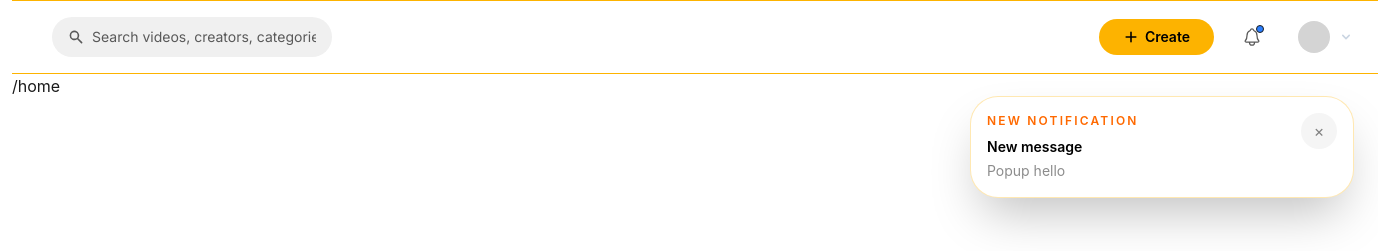
Test: TopBar › shows a popup for new realtime notifications while the drawer is closed
Click the button "New notification New message Popup hello". click: (1063, 120)
box: [987,113,1289,181]
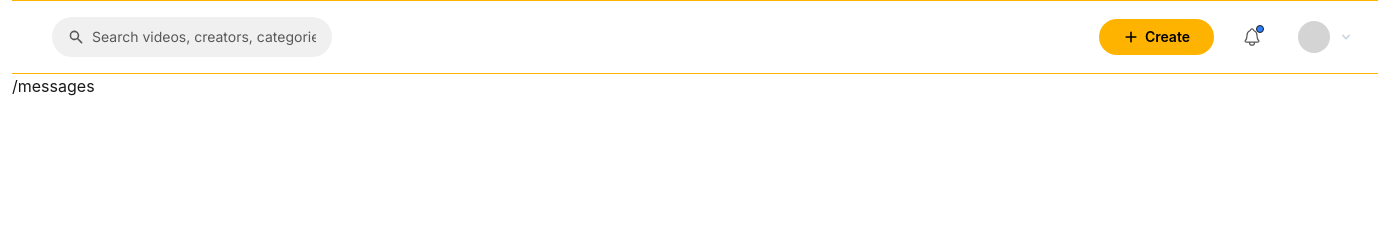
Result: the text with test id "location" reads "/messages" at [12,76,95,96]
Result: the message "New notification New message Popup hello ×" is gone
